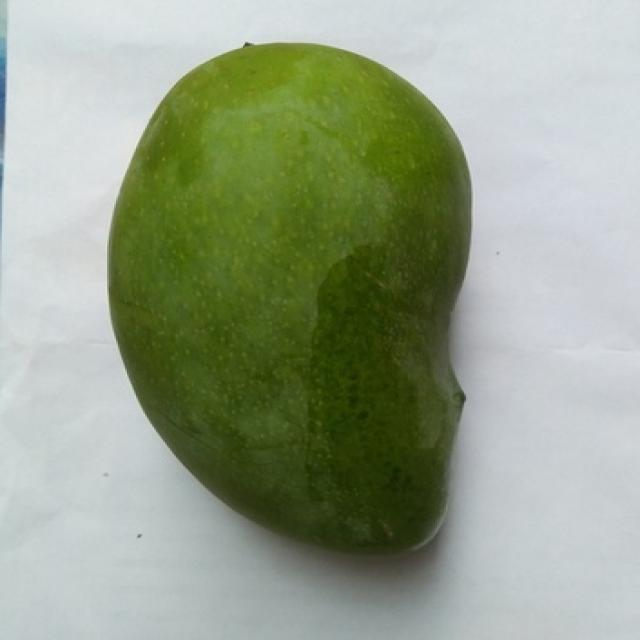Mango: (109, 43, 470, 551)
